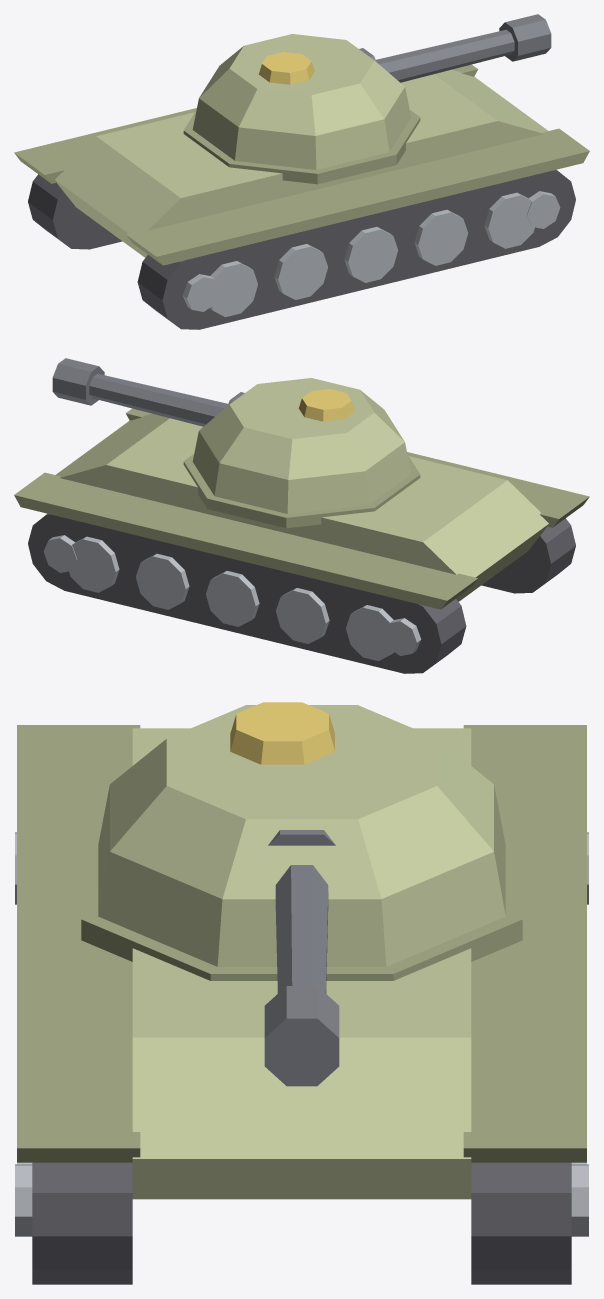
The model's file is tank.gltf.
The picture shows the model from 3 angles, top to bottom: view 1: azimuth 30°, elevation 25°; view 2: azimuth 150°, elevation 25°; view 3: azimuth 270°, elevation 25°; orthographic projection. The views are drawn at different scales.
Parts seen in each view (by area): view 1: Hull, Tracks, Turret, Skirts, Wheels, Barrel, TurretRing, Hatch; view 2: Hull, Tracks, Turret, Skirts, Wheels, Barrel, TurretRing, Hatch; view 3: Skirts, Turret, Hull, Tracks, Barrel, TurretRing, Hatch, Wheels.
Part boxes in pixels (bbox=[...]): Hull: bbox=[55, 69, 547, 257]; Tracks: bbox=[28, 169, 575, 329]; Turret: bbox=[192, 34, 411, 169]; Skirts: bbox=[14, 64, 589, 265]; Wheels: bbox=[182, 191, 560, 316]; Barrel: bbox=[359, 14, 551, 82]; TurretRing: bbox=[183, 110, 420, 184]; Hatch: bbox=[258, 52, 314, 84]; Hull: bbox=[56, 413, 548, 601]; Tracks: bbox=[28, 513, 575, 673]; Turret: bbox=[192, 378, 411, 513]; Skirts: bbox=[14, 408, 589, 609]; Wheels: bbox=[43, 535, 421, 660]; Barrel: bbox=[52, 358, 244, 426]; TurretRing: bbox=[183, 454, 420, 528]; Hatch: bbox=[298, 389, 354, 421]; Skirts: bbox=[17, 725, 586, 1162]; Turret: bbox=[98, 705, 505, 966]; Hull: bbox=[132, 728, 471, 1199]; Tracks: bbox=[32, 1162, 571, 1284]; Barrel: bbox=[264, 830, 339, 1086]; TurretRing: bbox=[81, 834, 522, 980]; Hatch: bbox=[230, 702, 334, 764]; Wheels: bbox=[15, 832, 588, 1236].
Size of the model in its own units: 2.74 by 1.06 by 1.49.
